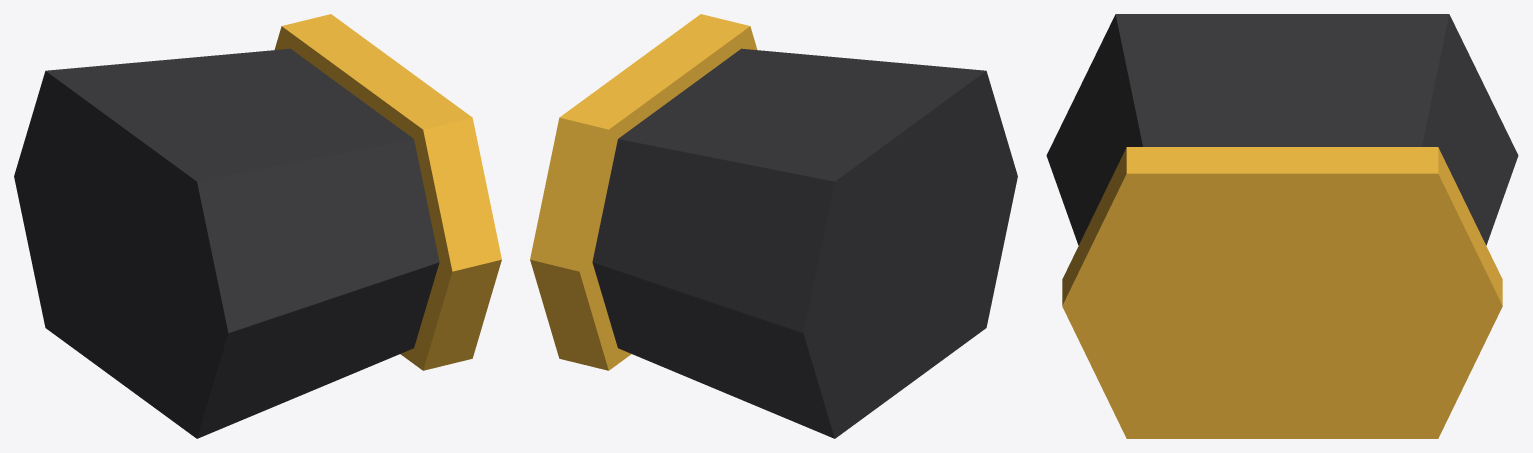
File: stalk_lod2.glb
3 renders of one model, left to right at view 1: azimuth 30°, elevation 25°; view 2: azimuth 150°, elevation 25°; view 3: azimuth 270°, elevation 25°, orthographic. The views are drawn at different scales.
Visible parts, largest first — view 1: stalk_lod2; view 2: stalk_lod2; view 3: stalk_lod2.
Part boxes in pixels (box(x1,y1,x2,y2)): stalk_lod2: box(14, 14, 501, 438); stalk_lod2: box(530, 14, 1017, 438); stalk_lod2: box(1046, 14, 1518, 438).
Bounding box in the file's own units: 0.034 × 0.0298 × 0.045.
